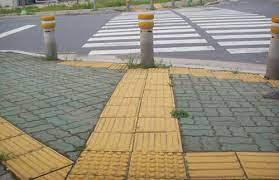guide_blocks: (86, 103, 180, 151), (72, 152, 182, 180), (186, 152, 279, 180), (108, 68, 173, 103), (173, 67, 264, 82), (61, 58, 129, 71)
